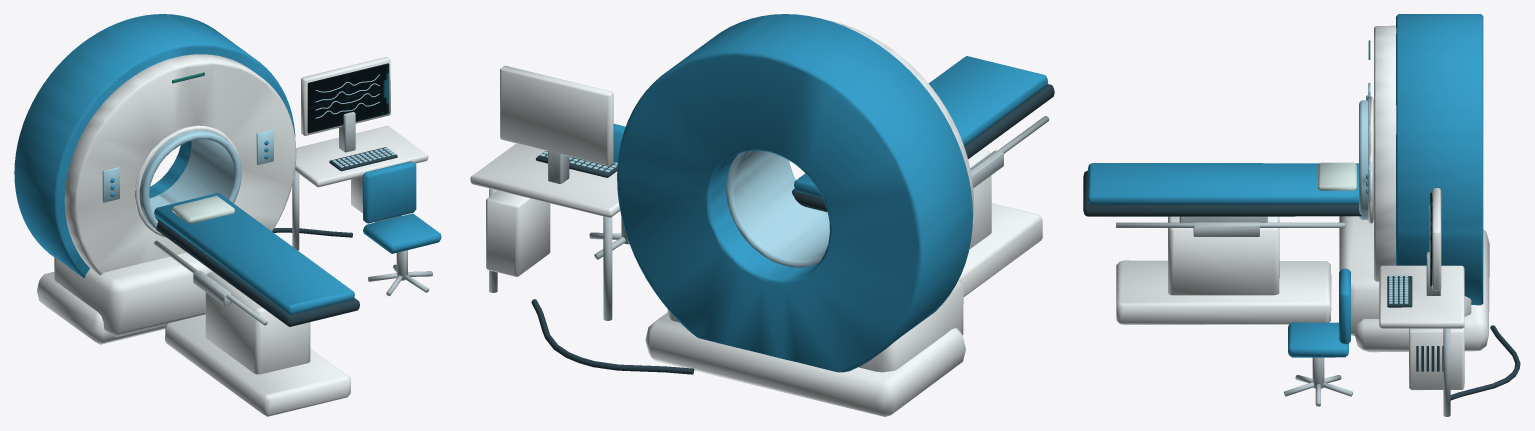
File: scan-lod.glb
3 views of the same model, side by side, from view 1: azimuth 30°, elevation 25°; view 2: azimuth 150°, elevation 25°; view 3: azimuth 270°, elevation 25° (orthographic). The views are drawn at different scales.
Parts seen in each view (by area): view 1: scan__Powder coat • warm porcelain, scan__Satin cobalt plastic, scan__Pale blue polymer, scan__Diagnostic glass • fictional, scan__Rubber and screen bezel, scan__Brushed aluminium, scan__Linen upholstery; view 2: scan__Satin cobalt plastic, scan__Powder coat • warm porcelain, scan__Pale blue polymer, scan__Rubber and screen bezel, scan__Brushed aluminium; view 3: scan__Powder coat • warm porcelain, scan__Satin cobalt plastic, scan__Rubber and screen bezel, scan__Brushed aluminium, scan__Pale blue polymer, scan__Linen upholstery.
Boxes of the visible parts, x1,y1,x2,y2 form: scan__Powder coat • warm porcelain: (37,54,428,416); scan__Satin cobalt plastic: (14,14,441,314); scan__Pale blue polymer: (102,74,395,230); scan__Diagnostic glass • fictional: (307,63,389,133); scan__Rubber and screen bezel: (155,147,397,326); scan__Brushed aluminium: (154,112,432,325); scan__Linen upholstery: (172,196,235,223); scan__Satin cobalt plastic: (613,14,1047,372); scan__Powder coat • warm porcelain: (470,20,1042,416); scan__Pale blue polymer: (540,150,829,267); scan__Rubber and screen bezel: (531,84,1054,374); scan__Brushed aluminium: (489,116,1049,320); scan__Powder coat • warm porcelain: (1116,25,1489,390); scan__Satin cobalt plastic: (1088,14,1483,357); scan__Rubber and screen bezel: (1083,170,1520,400); scan__Brushed aluminium: (1116,216,1450,416); scan__Pale blue polymer: (1359,82,1430,303); scan__Linen upholstery: (1318,162,1357,190).
Size of the model in its own units: 3 by 2.07 by 2.96.
8 materials, 2 textured.
